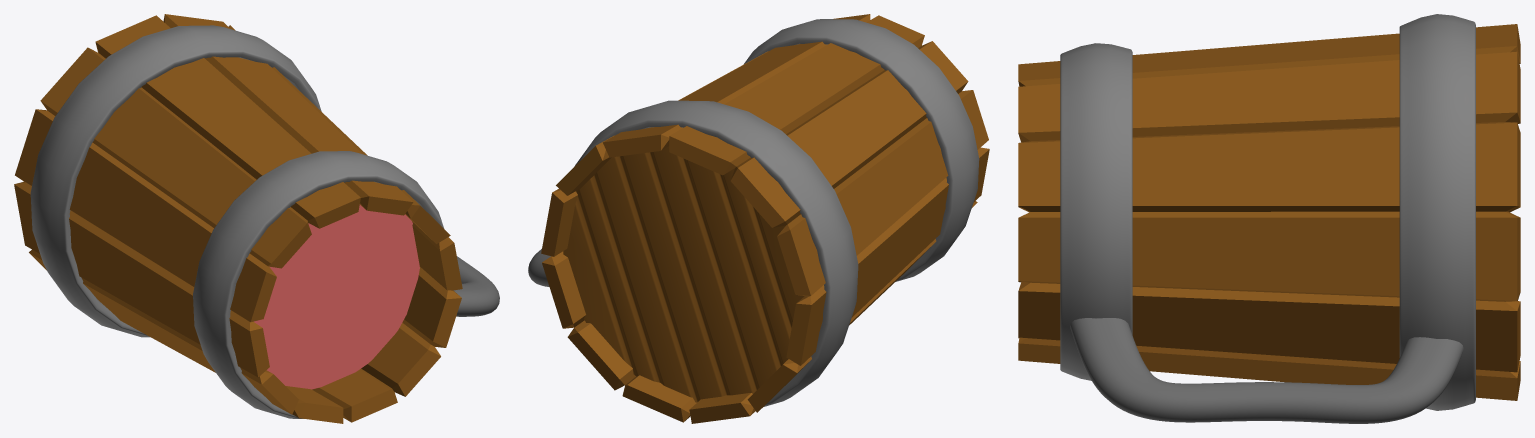
Rendered from Red Mug.glb.
3 views of the same model, side by side, from view 1: azimuth 30°, elevation 25°; view 2: azimuth 150°, elevation 25°; view 3: azimuth 270°, elevation 25° (orthographic). The views are drawn at different scales.
Visible parts, largest first — view 1: handle.007; view 2: handle.007; view 3: handle.007.
Boxes of the visible parts, left/top/right/bottom form: handle.007: left=14, top=14, right=499, bottom=423; handle.007: left=528, top=14, right=989, bottom=423; handle.007: left=1018, top=14, right=1520, bottom=423.
Size of the model in its own units: 25.32 by 21.09 by 26.76.
